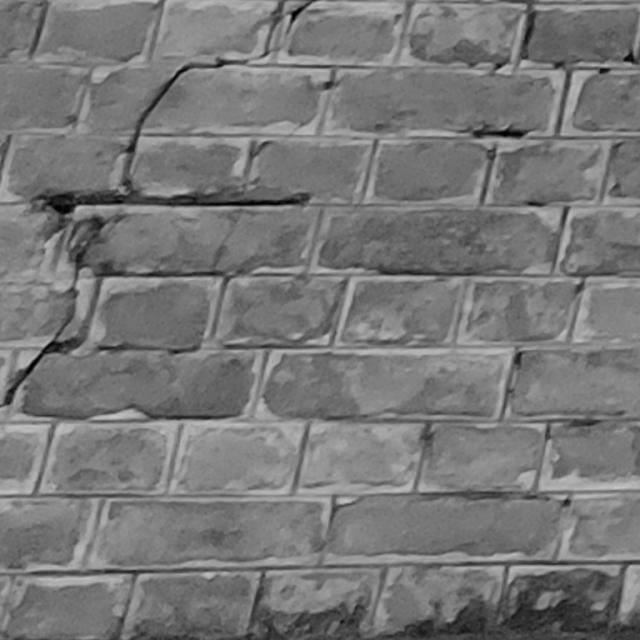crack: (1, 1, 313, 407)
